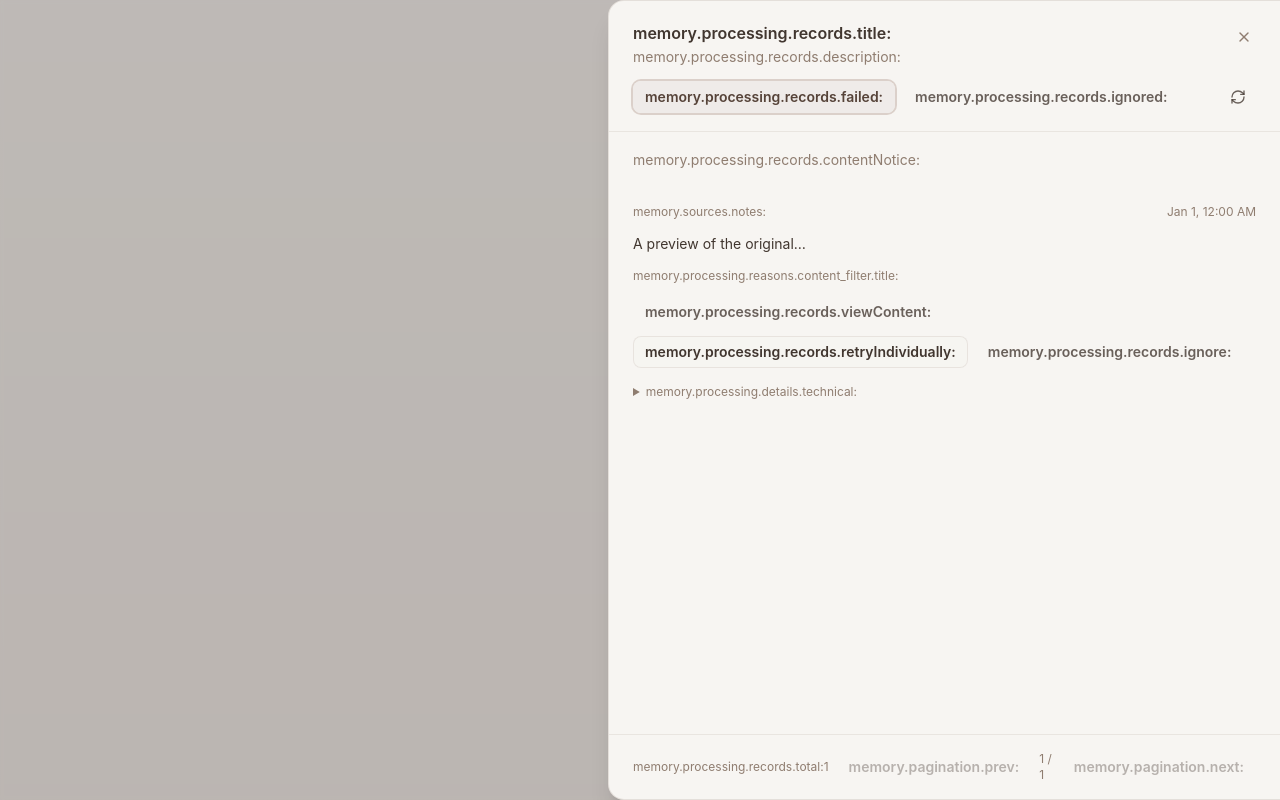
Test: MemoryFailureRecords › ignores a reviewed snapshot and allows undo without scheduling work
Check: the text "A preview of the original…" is shown, box top-left (633, 235), bottom-right (806, 252)
Click the button "memory.processing.records.ignore:": coordinates (1110, 352) top-left (976, 336), bottom-right (1243, 368)
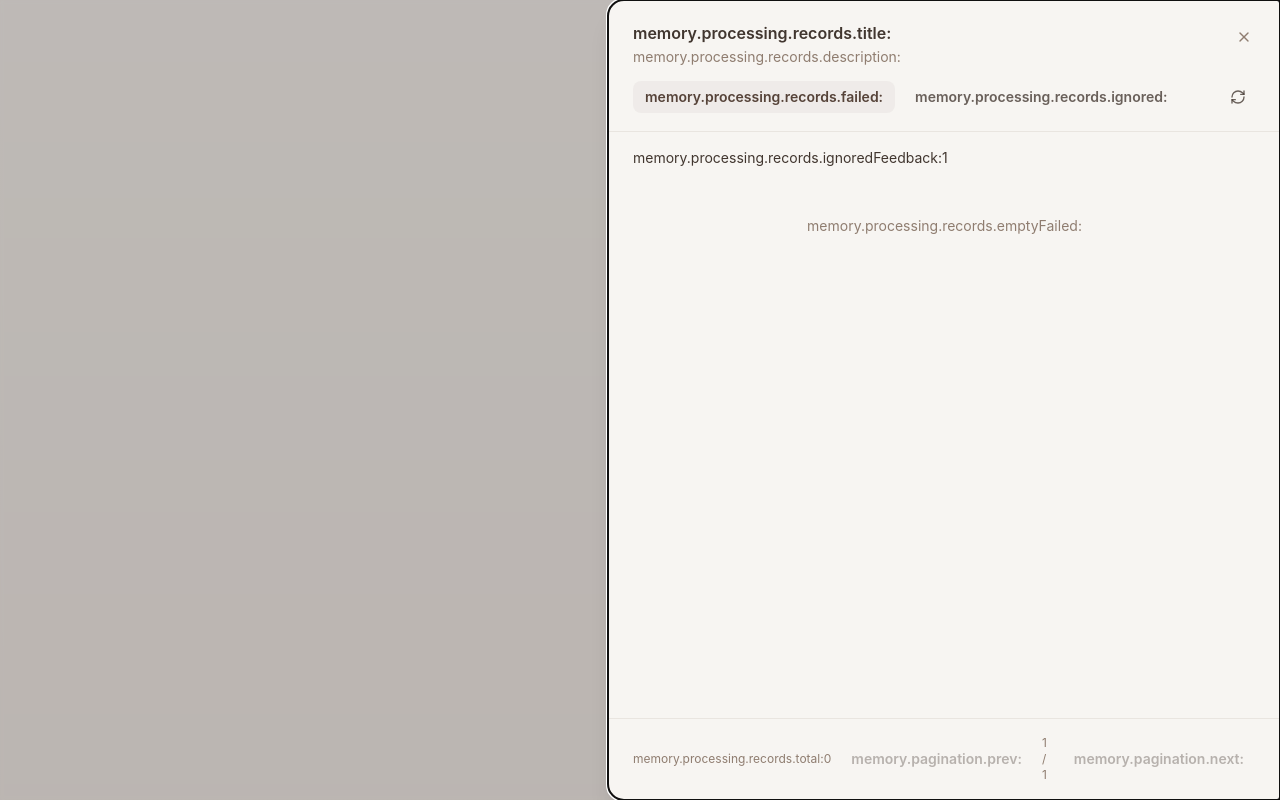
Check: the text "memory.processing.records.ignoredFeedback:1" is shown, box top-left (633, 149), bottom-right (948, 166)
Click the button "memory.processing.records.ignored:": coordinates (1041, 97) top-left (903, 81), bottom-right (1179, 113)
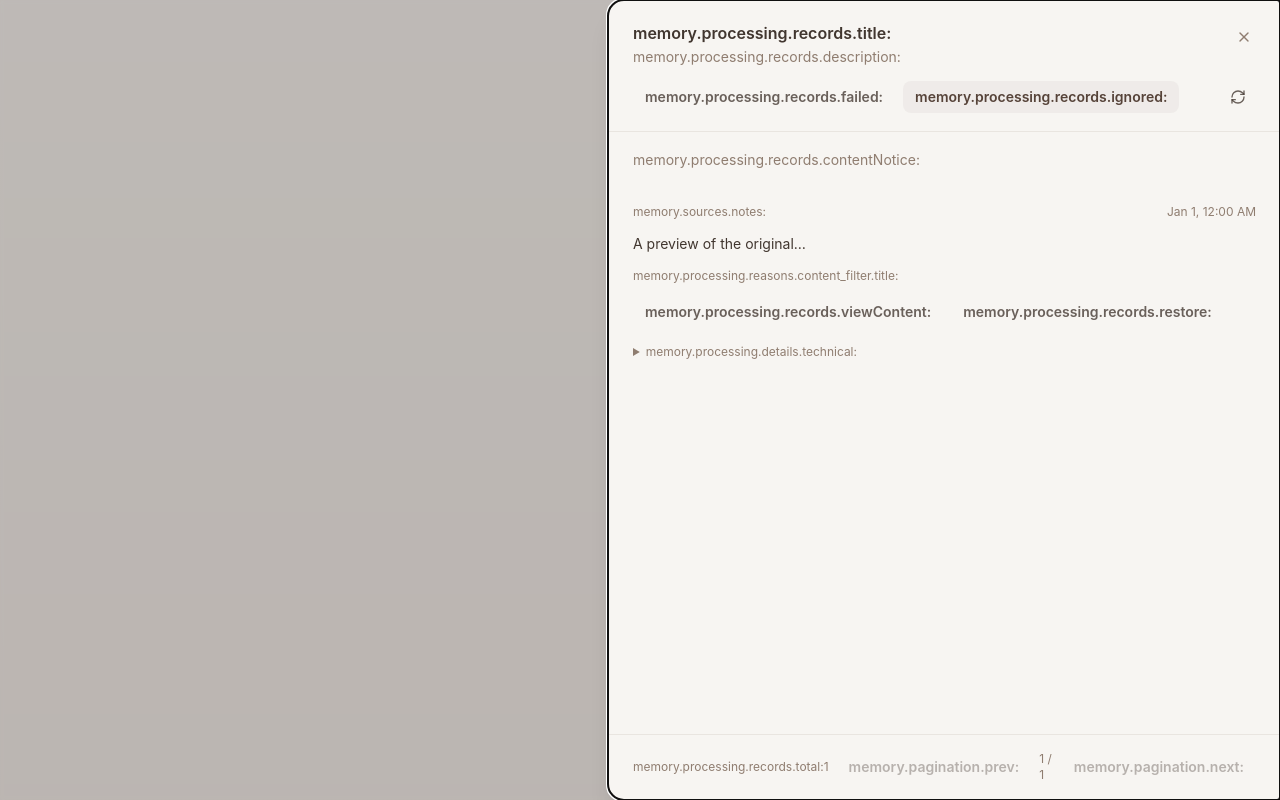
Check: the text "A preview of the original…" is shown, box top-left (633, 235), bottom-right (806, 252)
Click the button "memory.processing.records.restore:": coordinates (1088, 312) top-left (951, 296), bottom-right (1224, 328)
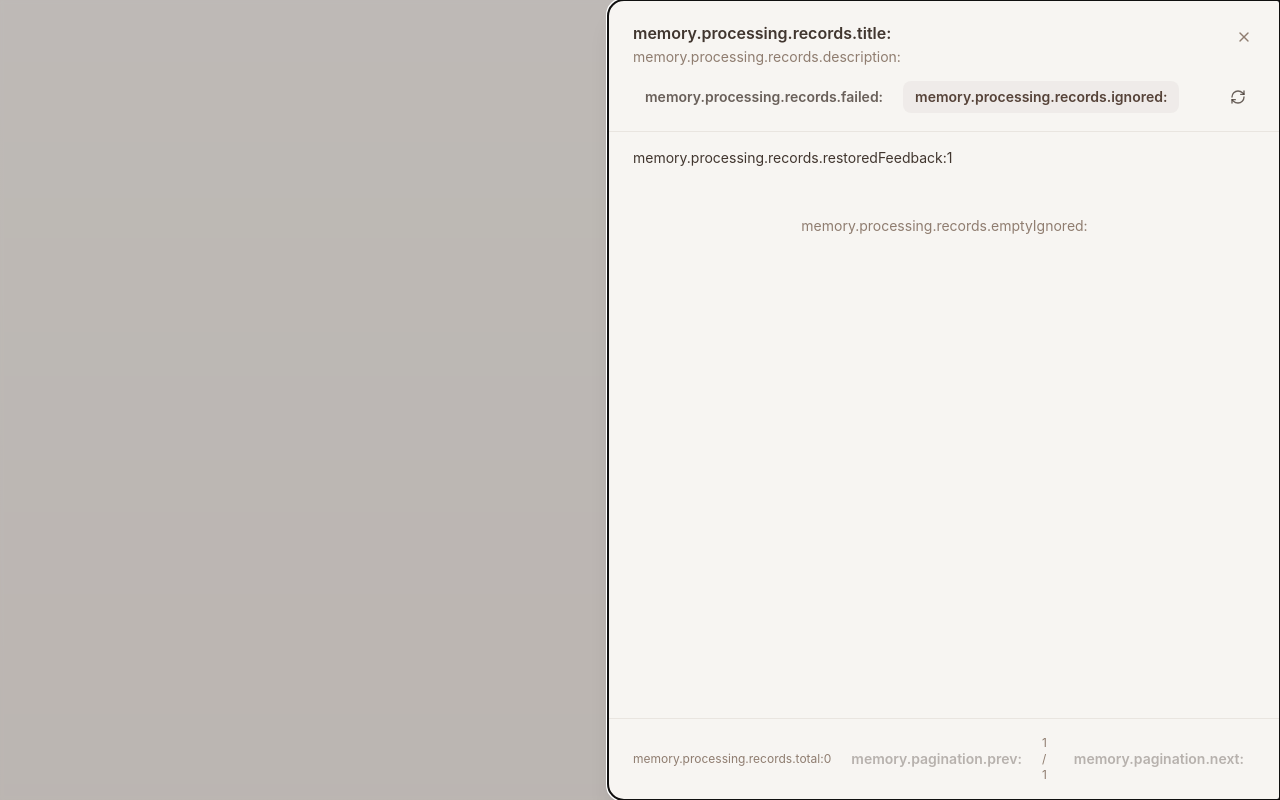
Check: the text "memory.processing.records.restoredFeedback:1" is shown, box top-left (633, 149), bottom-right (952, 166)
